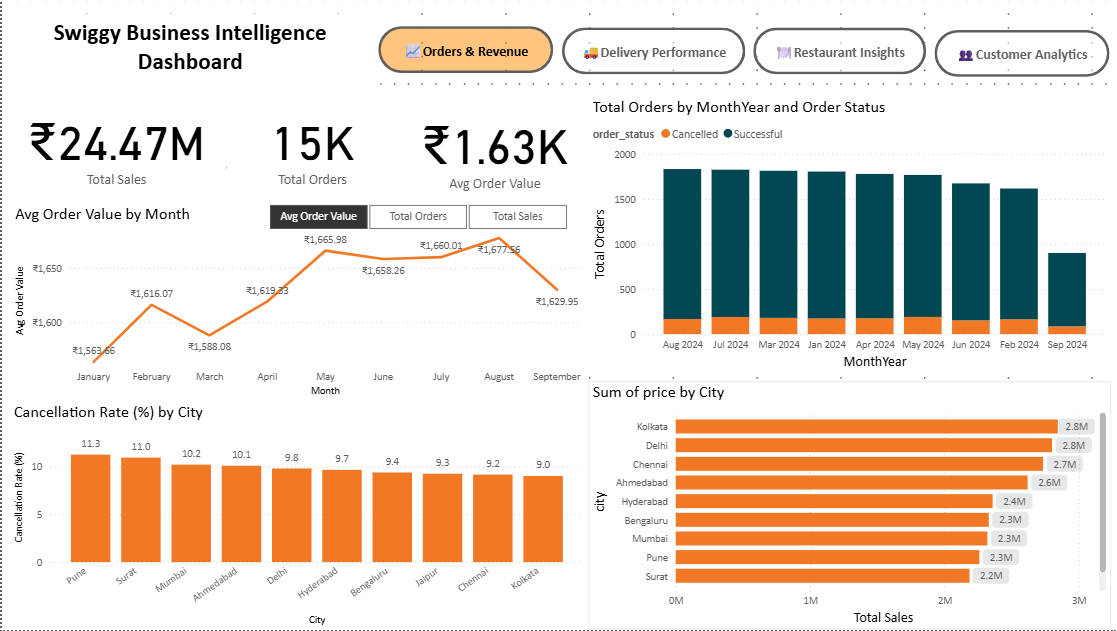

What the dashboard file says about the page in this screenshot:
{"tool":"powerbi","page":{"name":"Orders & Revenue","canvas":[1280,720],"ordinal":0},"visuals":[{"type":"lineChart","fields":{"Y":["Table.Avg Order Value"],"Category":["orders.order_time.Variation.Date Hierarchy.Month"]},"box":[10,232.6,660,225.9],"z":0,"group":"g1"},{"type":"card","fields":{"Values":["Table.Total Orders"]},"box":[256.6,101.5,196.2,131.7],"z":0},{"type":"slicer","fields":{"Values":["Parameter.Parameter"]},"box":[280.7,227.1,389.3,41.3],"z":1000,"group":"g1"},{"type":"card","fields":{"Values":["Table.Total Sales"]},"box":[8.2,101.5,245.6,131.7],"z":1000},{"type":"card","fields":{"Values":["Table.Avg Order Value"]},"box":[456.9,109.8,212.7,123.5],"z":2000},{"type":"textbox","box":[9.6,15.1,410.3,87.8],"z":3000},{"type":"columnChart","title":"Total Orders by MonthYear and Order Status","fields":{"Category":["orders.MonthYear"],"Y":["Table.Total Orders"],"Series":["orders.order_status"]},"box":[669.6,109.8,596.9,317],"z":4000},{"type":"actionButton","title":"Orders & Revenue","box":[429.5,30.2,200.3,53.5],"z":5000},{"type":"actionButton","title":"Orders & Revenue","box":[639.5,31.6,209.9,53.5],"z":6000},{"type":"actionButton","title":"Orders & Revenue","box":[859,31.6,197.6,53.5],"z":7000},{"type":"actionButton","title":"Orders & Revenue","box":[1066.2,34.3,200.3,53.5],"z":8000},{"type":"clusteredBarChart","title":"Sum of price by City","fields":{"Category":["customers.city"],"Y":["Table.Total Sales"]},"box":[670,435.7,597.1,284.3],"z":9000},{"type":"clusteredColumnChart","title":"Cancellation Rate (%) by City","fields":{"Category":["customers.city"],"Y":["Table.Cancellation Rate (%)"]},"box":[8.6,458.6,661.4,261.4],"z":10000},{"type":"group","id":"g1","title":"Group 1","box":[10,227.1,660,231.4],"z":11000}]}

Visuals, with their boxes in screenshot pixels (x1, y1, x2, y2), scaled from the page's 1280x720 canvas onto the 1117x631 screenshot:
lineChart - Table.Avg Order Value x orders.order_time.Variation.Date Hierarchy.Month: {"left": 9, "top": 204, "right": 585, "bottom": 402}
card - Table.Total Orders: {"left": 224, "top": 89, "right": 395, "bottom": 204}
slicer - Parameter.Parameter: {"left": 245, "top": 199, "right": 585, "bottom": 235}
card - Table.Total Sales: {"left": 7, "top": 89, "right": 221, "bottom": 204}
card - Table.Avg Order Value: {"left": 399, "top": 96, "right": 584, "bottom": 204}
textbox: {"left": 8, "top": 13, "right": 366, "bottom": 90}
"Total Orders by MonthYear and Order Status" columnChart: {"left": 584, "top": 96, "right": 1105, "bottom": 374}
"Orders & Revenue" actionButton: {"left": 375, "top": 26, "right": 550, "bottom": 73}
"Orders & Revenue" actionButton: {"left": 558, "top": 28, "right": 741, "bottom": 75}
"Orders & Revenue" actionButton: {"left": 750, "top": 28, "right": 922, "bottom": 75}
"Orders & Revenue" actionButton: {"left": 930, "top": 30, "right": 1105, "bottom": 77}
"Sum of price by City" clusteredBarChart: {"left": 585, "top": 382, "right": 1106, "bottom": 630}
"Cancellation Rate (%) by City" clusteredColumnChart: {"left": 8, "top": 402, "right": 585, "bottom": 630}
"Group 1" group: {"left": 9, "top": 199, "right": 585, "bottom": 402}
